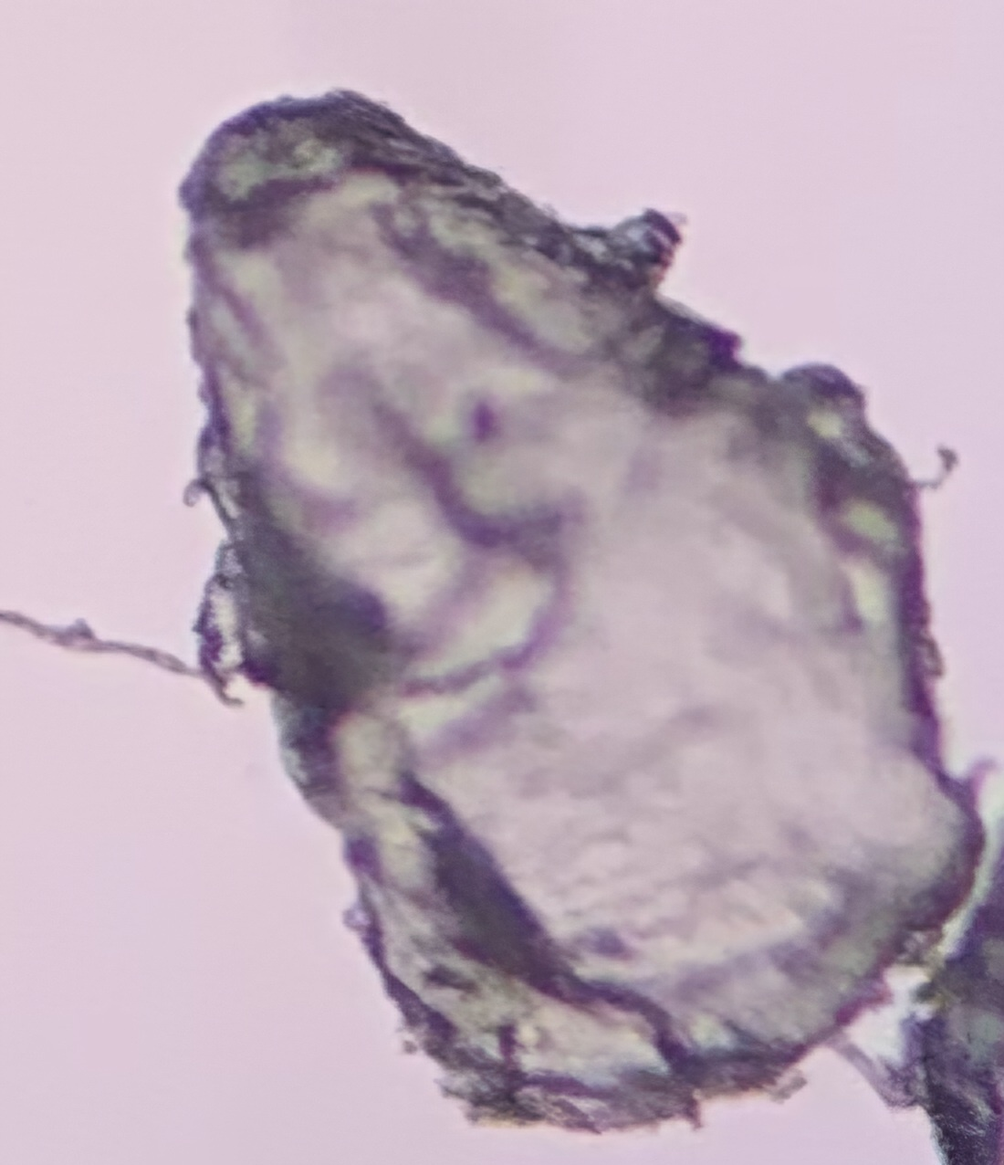microplastic: (177, 88, 1004, 1165), (1, 601, 245, 710)
